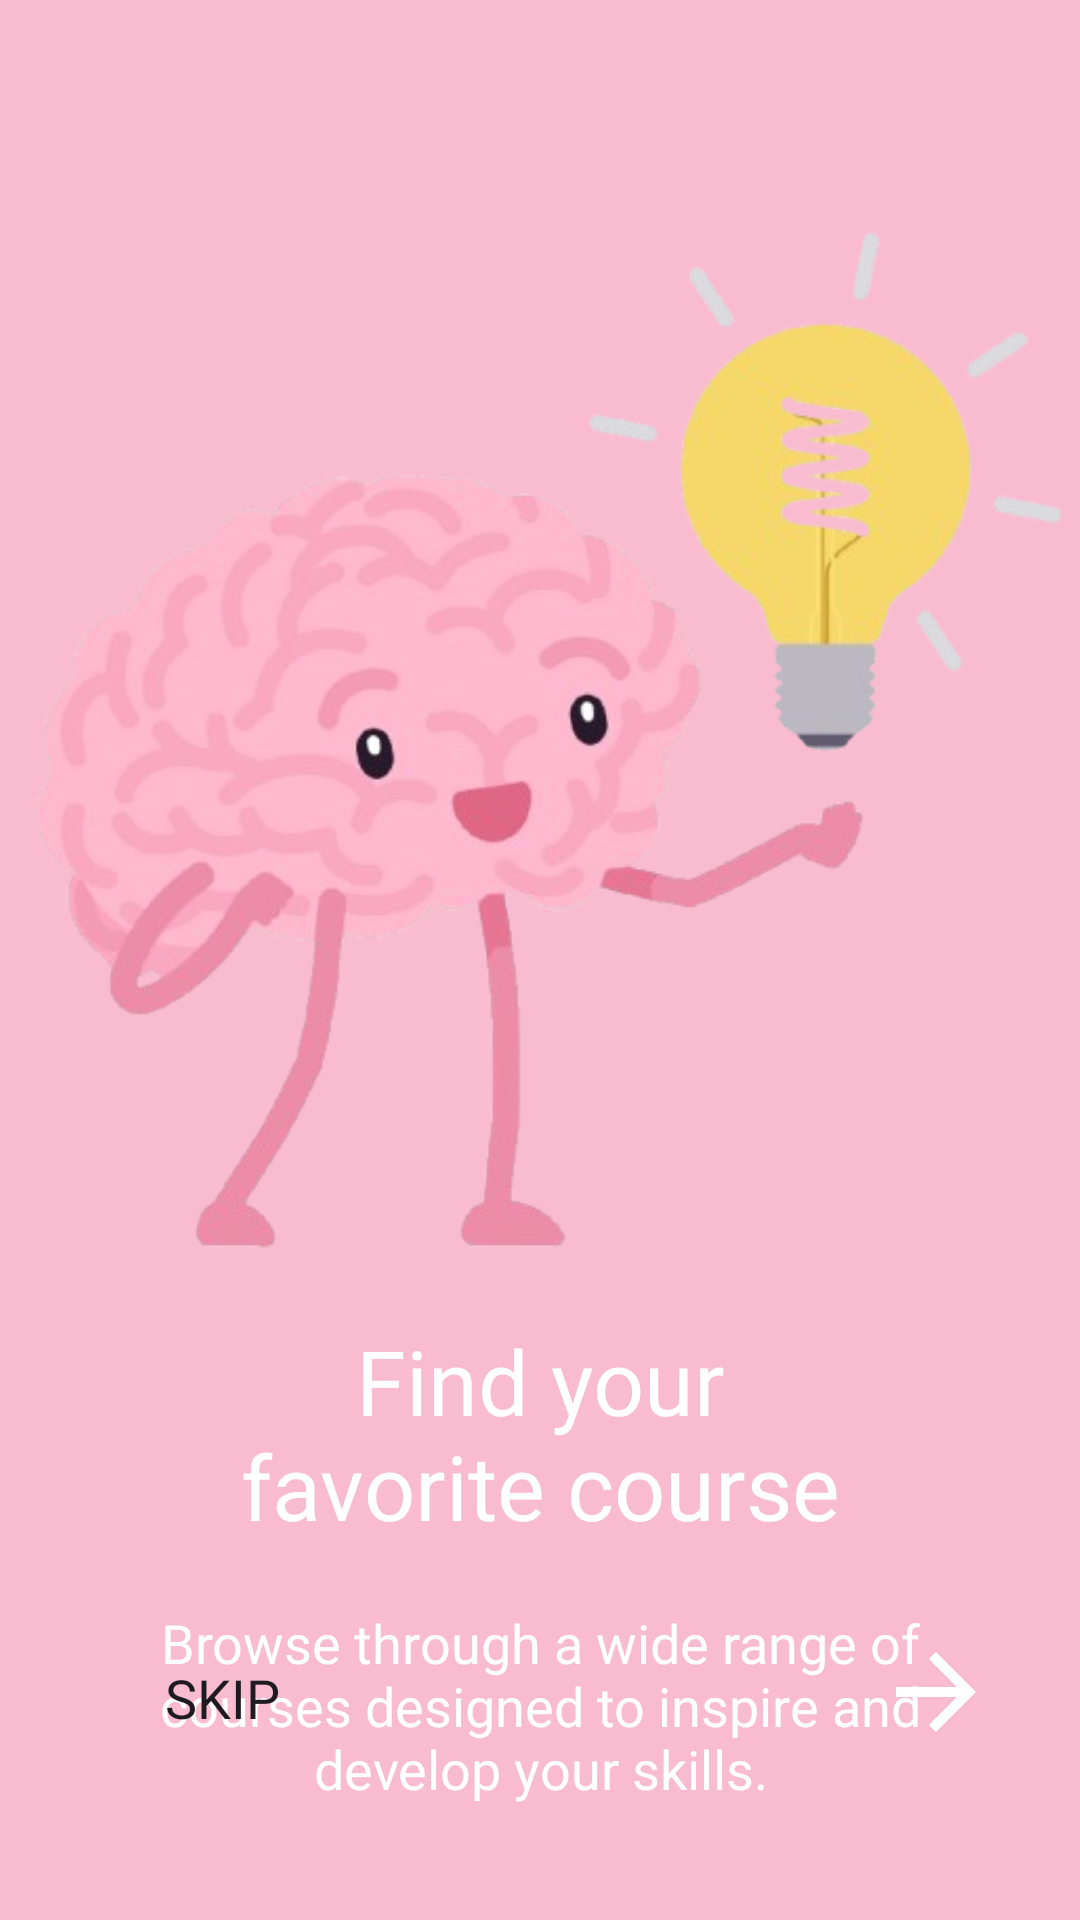

Where icons sit on this 1080 x 1920 app screen, as [x1=x1, y1=y1, x2=x2, y2=y2]:
arrow forward: [x1=876, y1=1635, x2=976, y2=1732]
